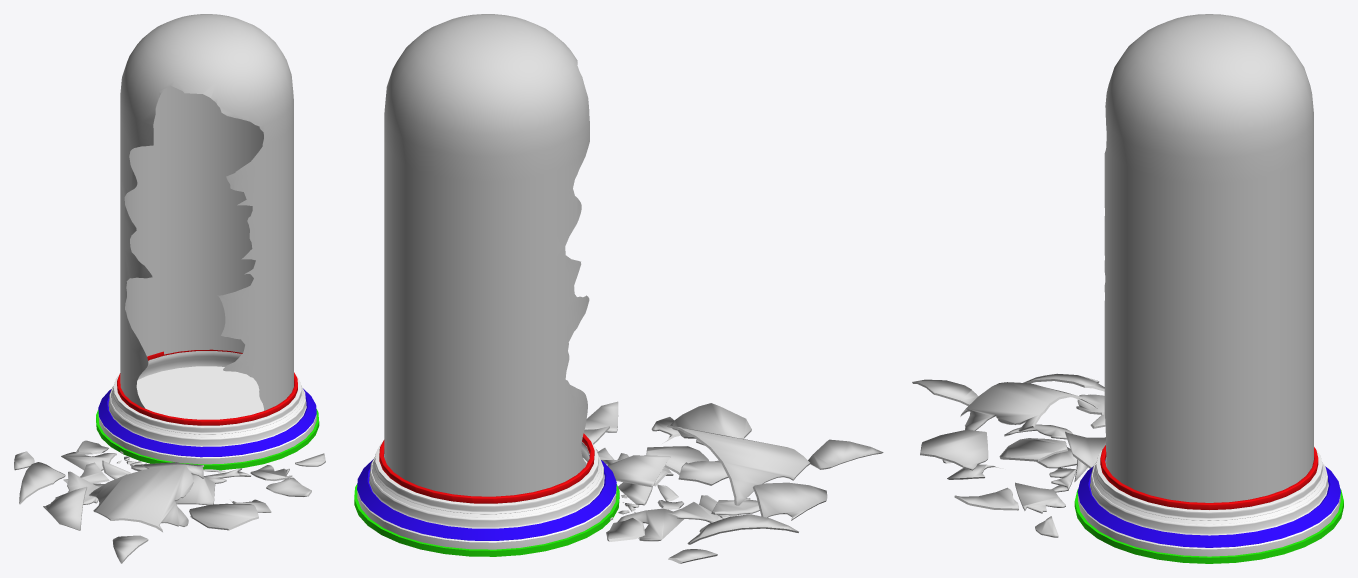
File: glasscontainer_03.fbx
3 renders of one model, left to right at view 1: azimuth 30°, elevation 25°; view 2: azimuth 150°, elevation 25°; view 3: azimuth 270°, elevation 25°, orthographic. The views are drawn at different scales.
Visible parts, largest first — view 1: Sphere.005, Sphere.001, Sphere.007_cell.038_cell.002; view 2: Sphere.005, Sphere.007_cell.038_cell.002, Sphere.001; view 3: Sphere.005, Sphere.001, Sphere.007_cell.038_cell.002.
Part boxes in pixels (box(x1,y1,x2,y2)): Sphere.005: box(120, 14, 293, 410); Sphere.001: box(96, 349, 319, 470); Sphere.007_cell.038_cell.002: box(14, 440, 325, 563); Sphere.005: box(384, 14, 589, 496); Sphere.007_cell.038_cell.002: box(584, 401, 883, 563); Sphere.001: box(354, 433, 619, 556); Sphere.005: box(1104, 14, 1313, 502); Sphere.001: box(1074, 445, 1343, 563); Sphere.007_cell.038_cell.002: box(912, 373, 1105, 537).
Size of the model in its own units: 210 by 248 by 203.
